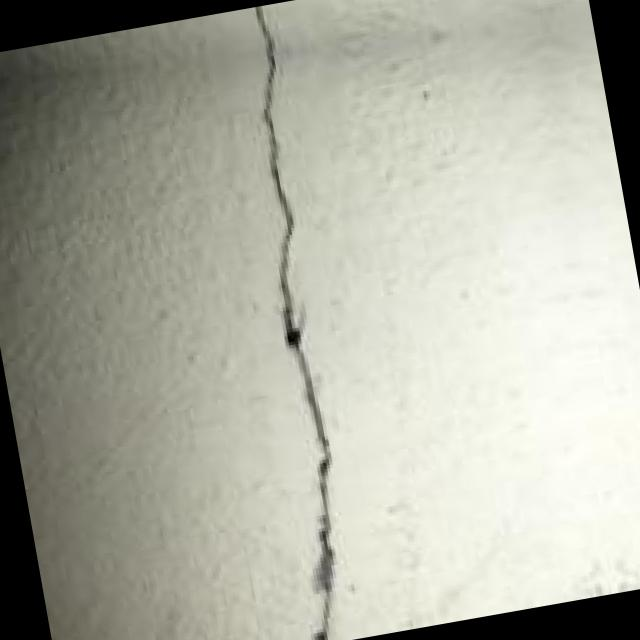crack: (183, 3, 403, 640)
